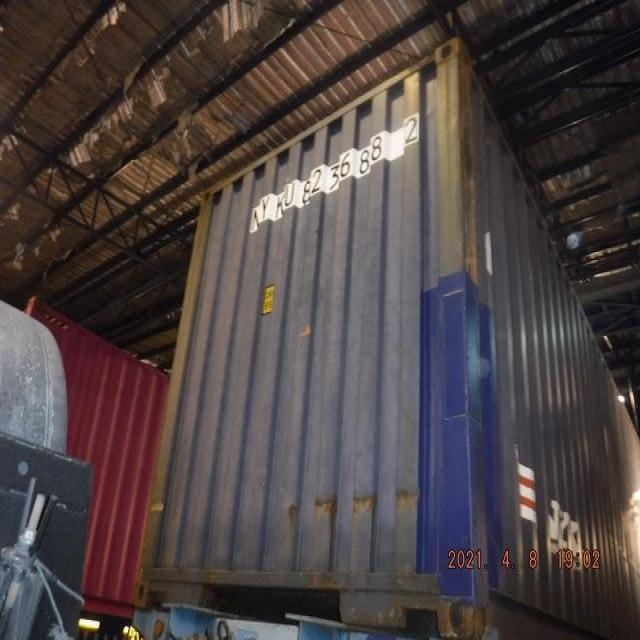Minor-Dent: (264, 481, 423, 523)
